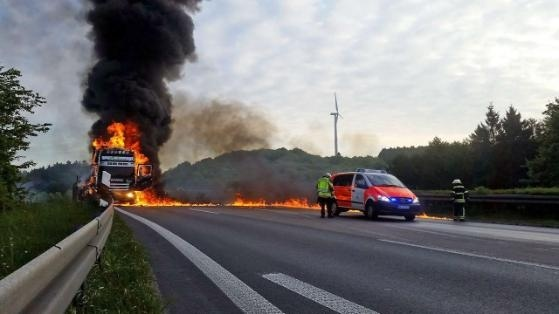fire: (91, 119, 163, 199)
